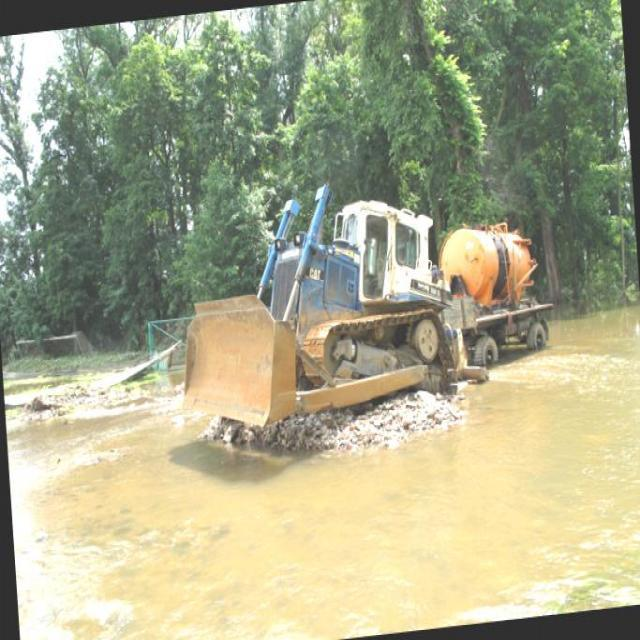flood: (3, 300, 639, 639)
